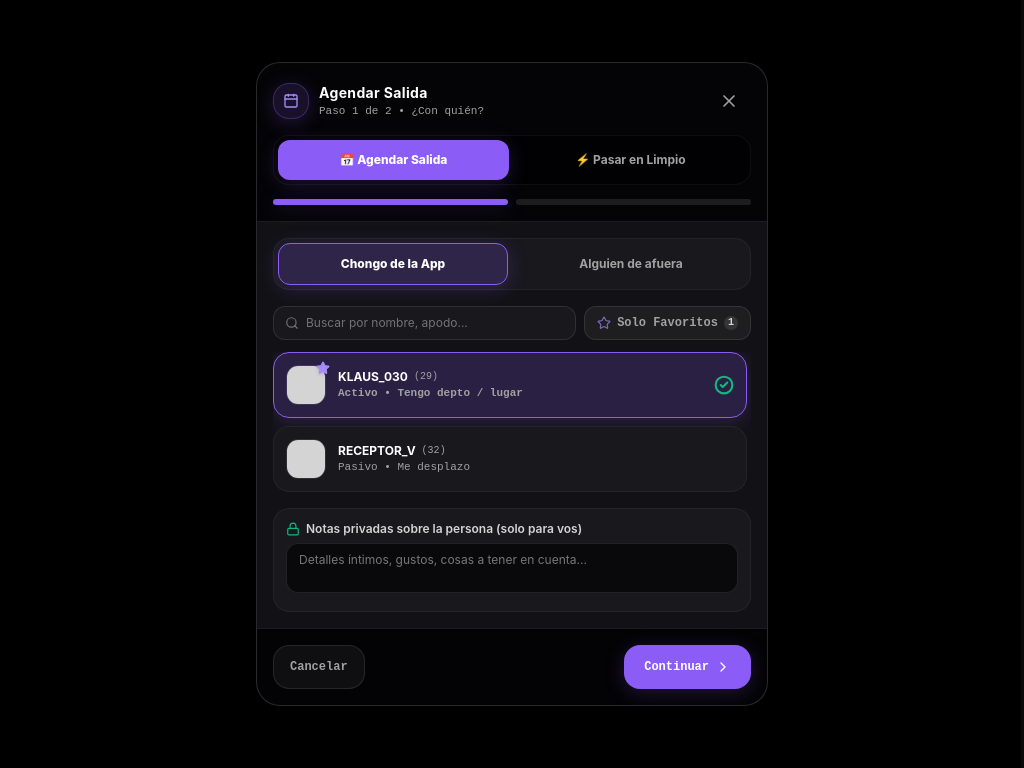
Scenario: CreateDiaryEntryModal — Flujo Adaptativo Bifurcado en 2 Pasos › debe permitir conmutar entre '📅 Agendar Salida' y '⚡ Pasar en Limpio'
Click the button with test id "diary-modal-tab-log" at (630, 160), box [515, 140, 746, 180]
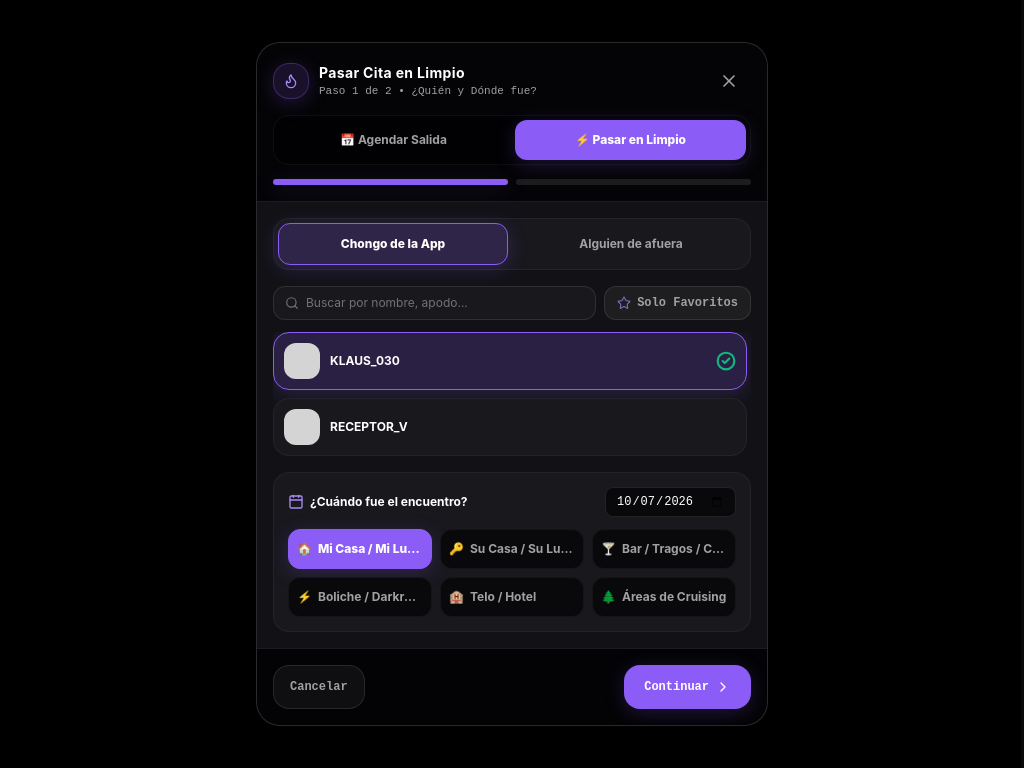
Expected: the heading "Pasar Cita en Limpio" is shown, [319, 64, 465, 81]
Expected: the text "Paso 1 de 2 • ¿Quién y Dónde fue?" is shown, [319, 83, 537, 99]
